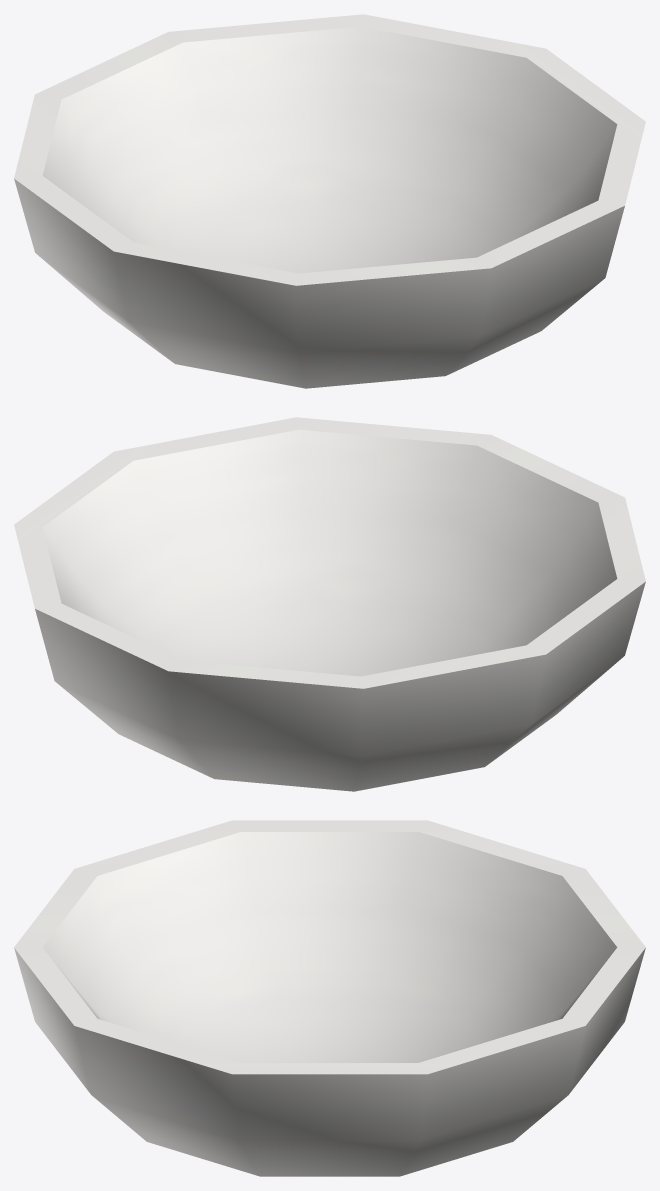
Rendered from Bowl.fbx.
The picture shows the model from 3 angles, top to bottom: view 1: azimuth 30°, elevation 25°; view 2: azimuth 150°, elevation 25°; view 3: azimuth 270°, elevation 25°; orthographic projection. The views are drawn at different scales.
Visible parts, largest first — view 1: Bowl; view 2: Bowl; view 3: Bowl.
Boxes of the visible parts, x1,y1,x2,y2 form: Bowl: (14,14,645,388); Bowl: (14,417,645,791); Bowl: (14,820,645,1176).
Size of the model in its own units: 21.96 by 6.32 by 23.09.
